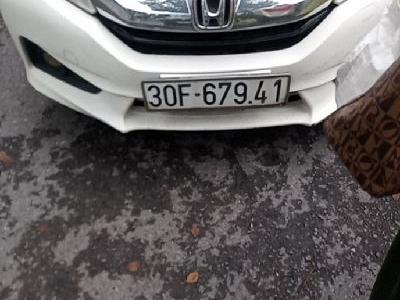lisence: (142, 73, 292, 111)
